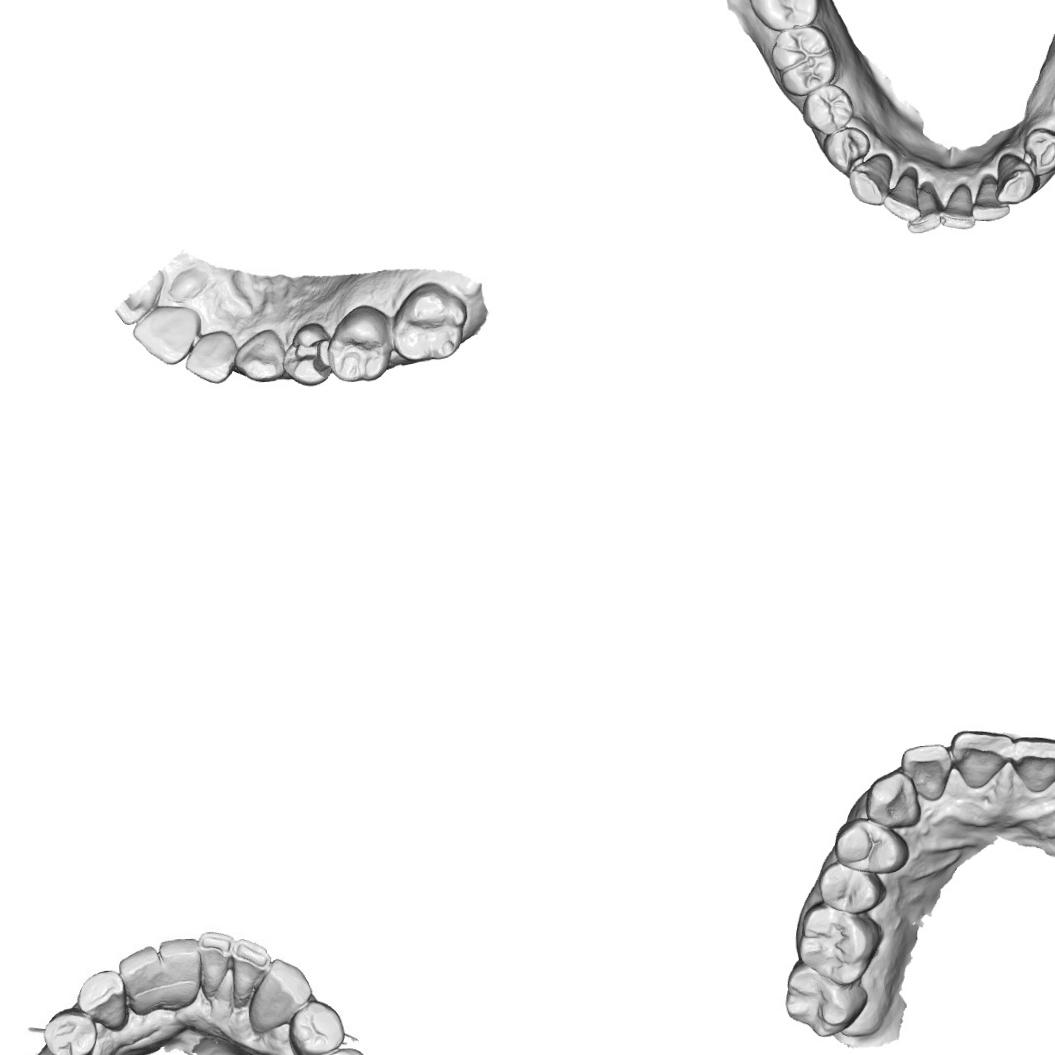canine: (247, 956, 308, 1030), (861, 770, 926, 827), (230, 327, 288, 384), (79, 970, 131, 1028), (846, 151, 894, 208), (992, 150, 1037, 206)
incisor: (130, 303, 203, 367), (948, 728, 1020, 790), (183, 328, 241, 385), (160, 934, 204, 1008), (900, 742, 954, 801), (196, 929, 238, 996), (227, 936, 267, 1005), (1012, 733, 1055, 795), (122, 946, 163, 1011), (934, 180, 980, 231), (881, 171, 922, 224), (906, 183, 946, 236), (968, 175, 1010, 224)
inlay: (290, 332, 331, 378)
molar: (792, 899, 882, 986), (778, 958, 868, 1040), (388, 280, 470, 364), (325, 302, 395, 385), (768, 23, 840, 98), (745, 0, 822, 33)
premolar: (832, 815, 907, 876), (815, 862, 888, 917), (800, 82, 857, 138), (288, 998, 342, 1055), (820, 125, 873, 174), (45, 1012, 100, 1055), (1022, 125, 1055, 178)
